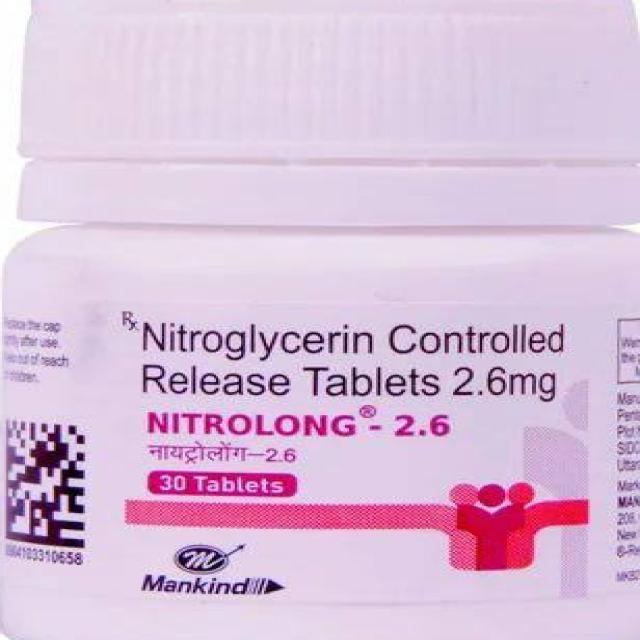drug-name: (144, 403, 457, 441)
